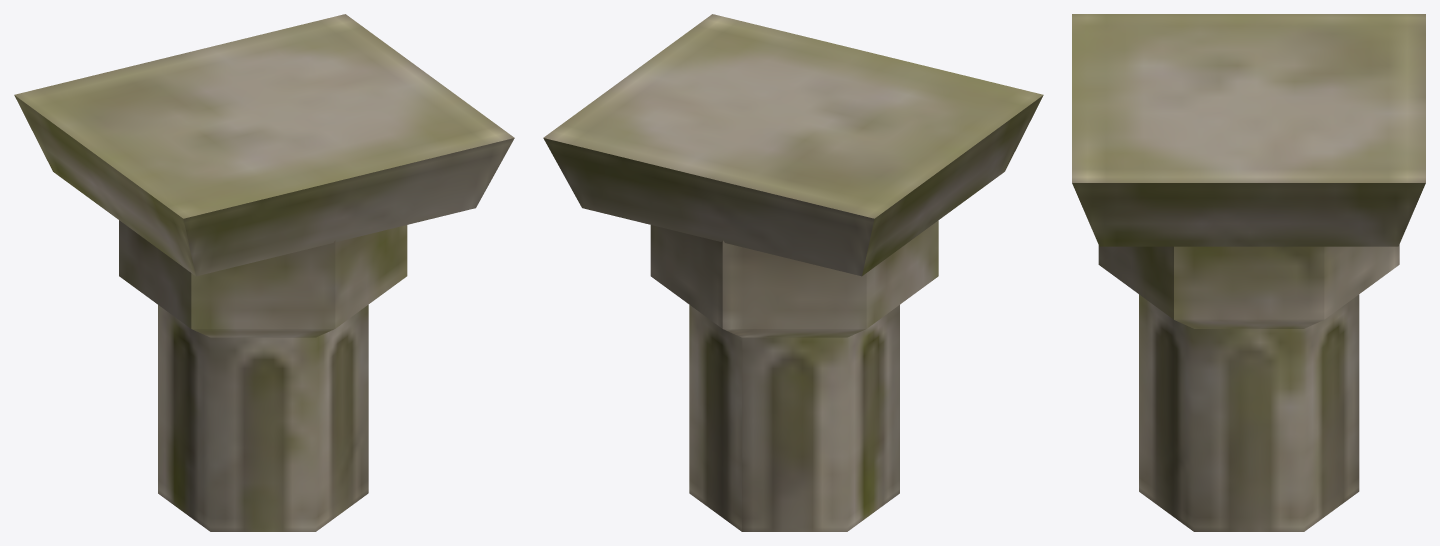
The model's file is swamp_temple_4.FBX.
3 views of the same model, side by side, from view 1: azimuth 30°, elevation 25°; view 2: azimuth 150°, elevation 25°; view 3: azimuth 270°, elevation 25° (orthographic). The views are drawn at different scales.
Visible parts, largest first — view 1: swamp_temple_4; view 2: swamp_temple_4; view 3: swamp_temple_4.
Part boxes in pixels (bbox=[...]): swamp_temple_4: bbox=[14, 14, 514, 531]; swamp_temple_4: bbox=[543, 14, 1043, 531]; swamp_temple_4: bbox=[1072, 14, 1425, 531].
Size of the model in its own units: 37.43 by 40.66 by 33.12.
